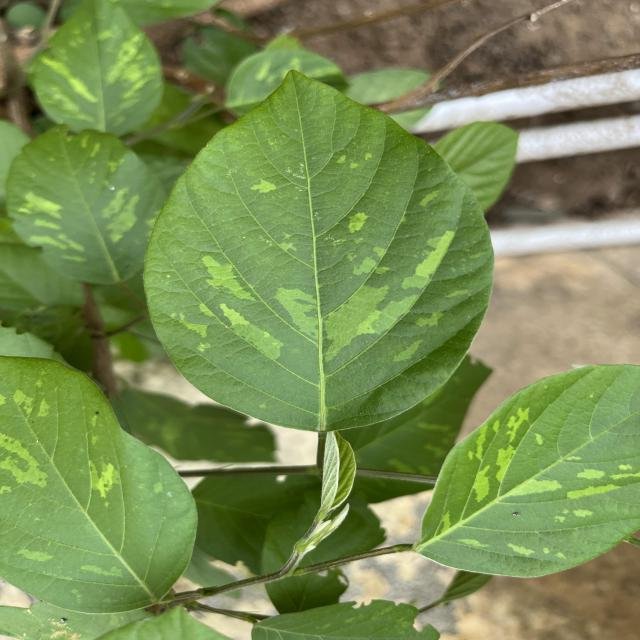Desmodium gangeticum: (137, 64, 500, 438), (0, 352, 202, 618), (408, 362, 640, 581)
